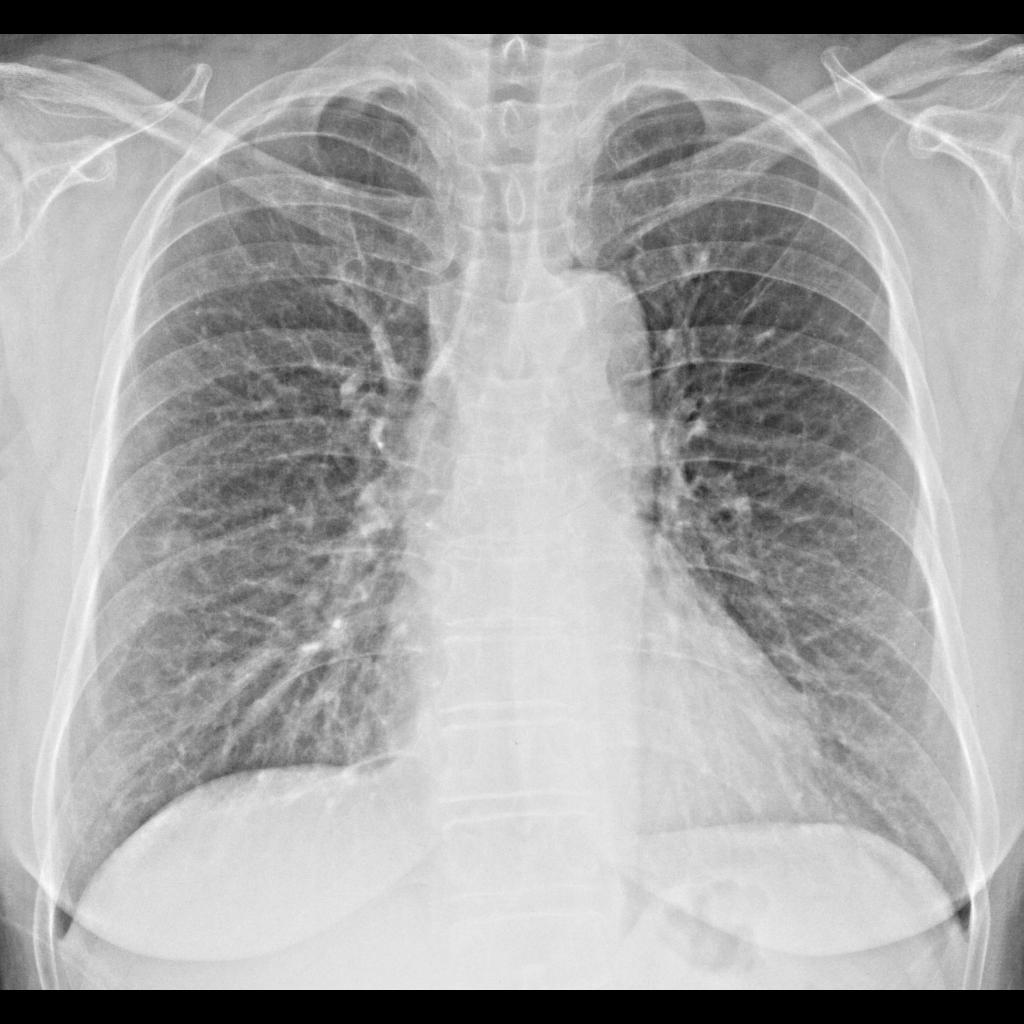Nodule: (154, 529, 198, 572)
